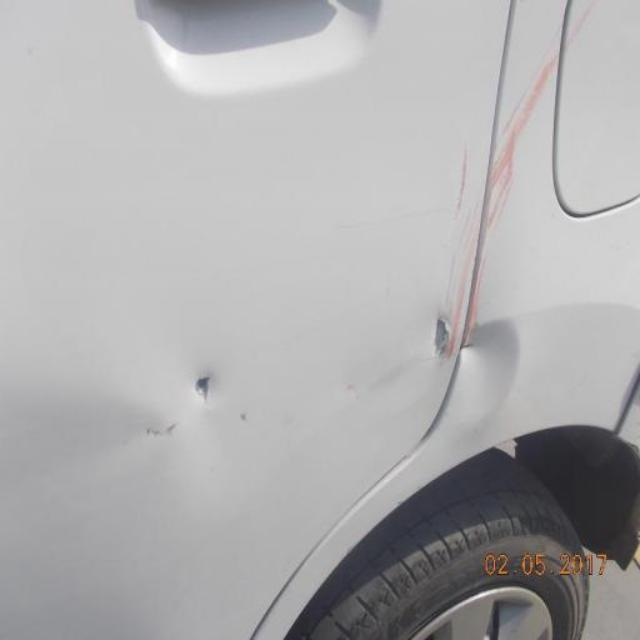crack: (183, 362, 229, 412), (427, 308, 457, 372), (138, 419, 185, 443)
dent: (235, 406, 251, 430)
scratch: (443, 0, 593, 373)
